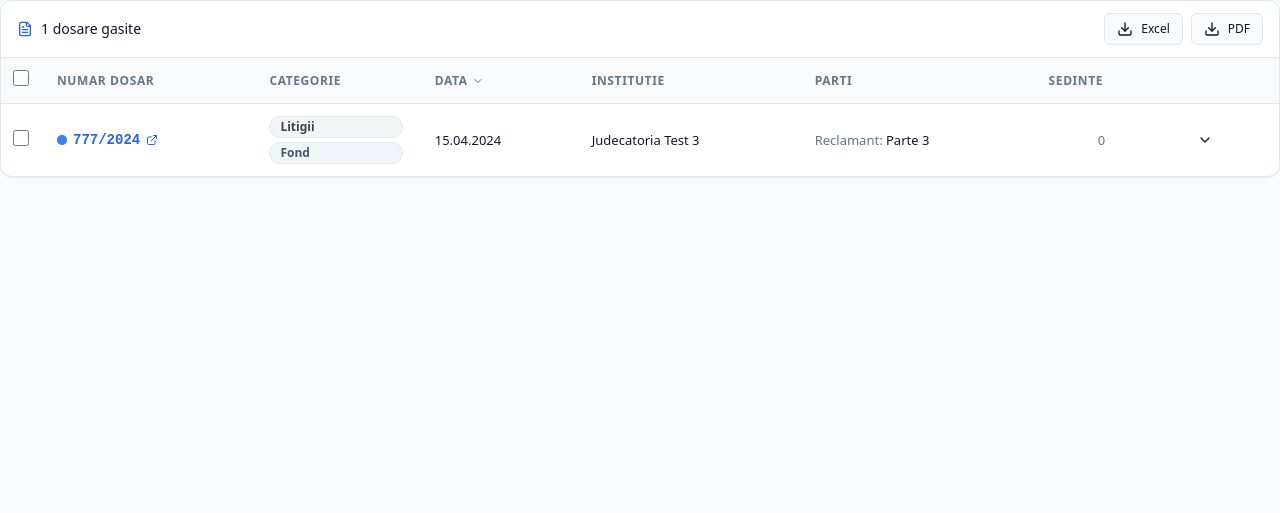
Test: DosareTable — characterization (handlers + side effects) › monitor: MonitoringApiError → mesajul erorii e afisat in rosu
The width and height of the screenshot is (1280, 513).
Click the row that starts with "Litigii". click: coordinates (640, 140)
box: x1=1 y1=104 x2=1279 y2=176
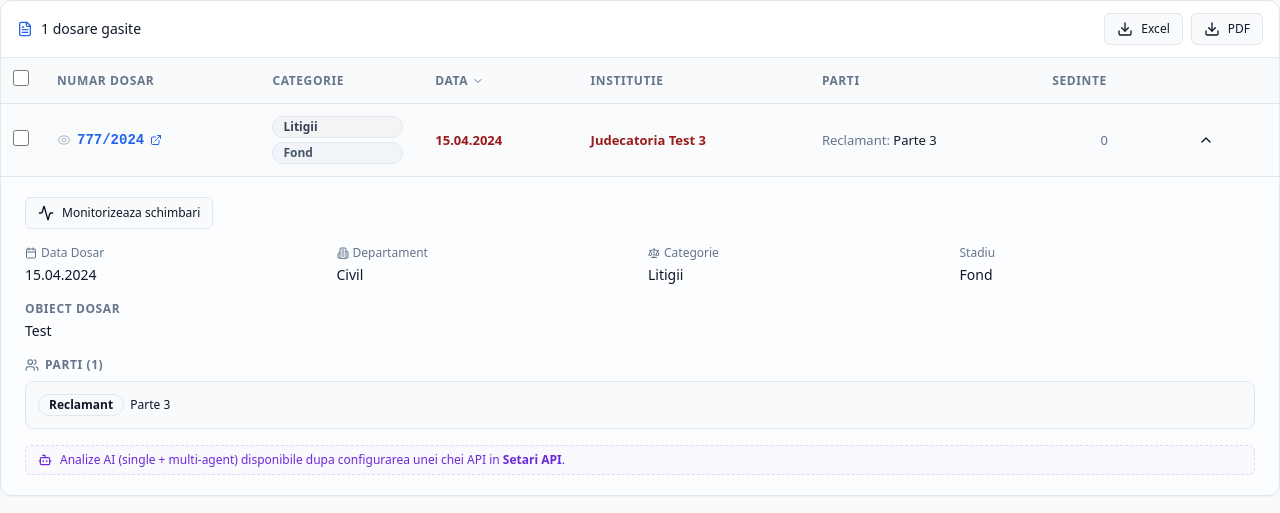
Click the button "Monitorizeaza schimbari". click: coordinates (119, 213)
box: x1=25 y1=197 x2=213 y2=229
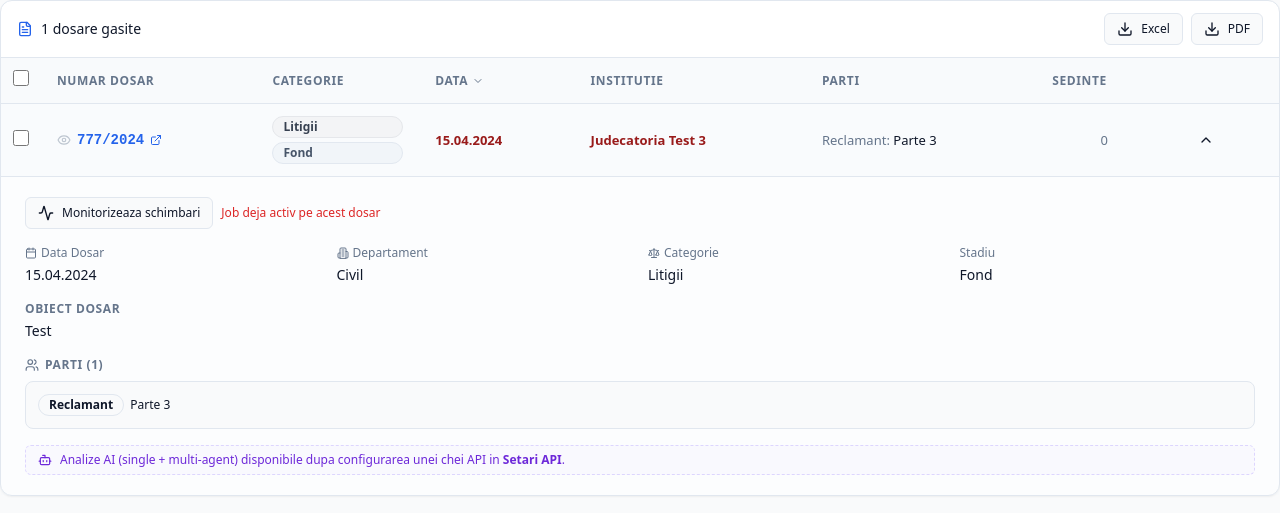
expect the text "Job deja activ pe acest dosar" is shown: met, box x1=221 y1=205 x2=380 y2=221
